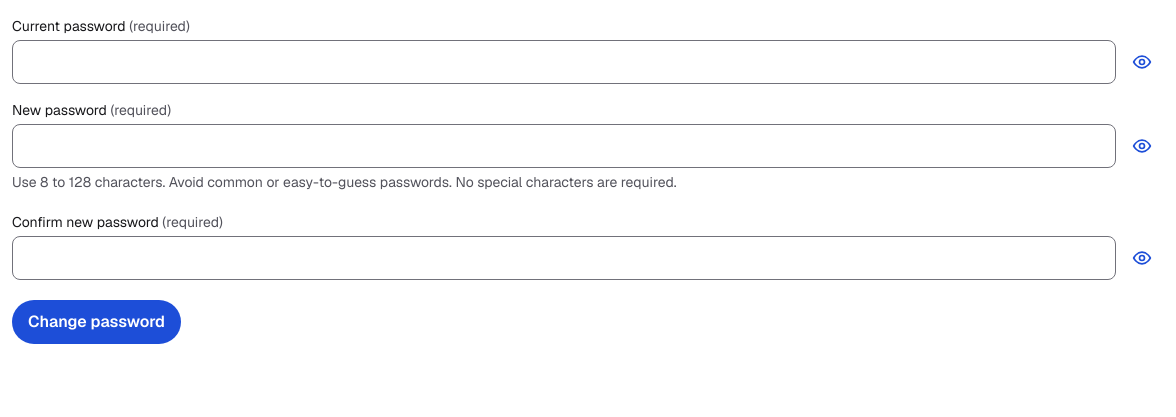
ChangePasswordForm interactions › posts exactly the three fields; success announces in role=status and clears every field
This screenshot has width=1176, height=417.
Type "old-password-1" into the password field labelled "Current password (required)". click: (564, 62)
box: [12,40,1116,84]
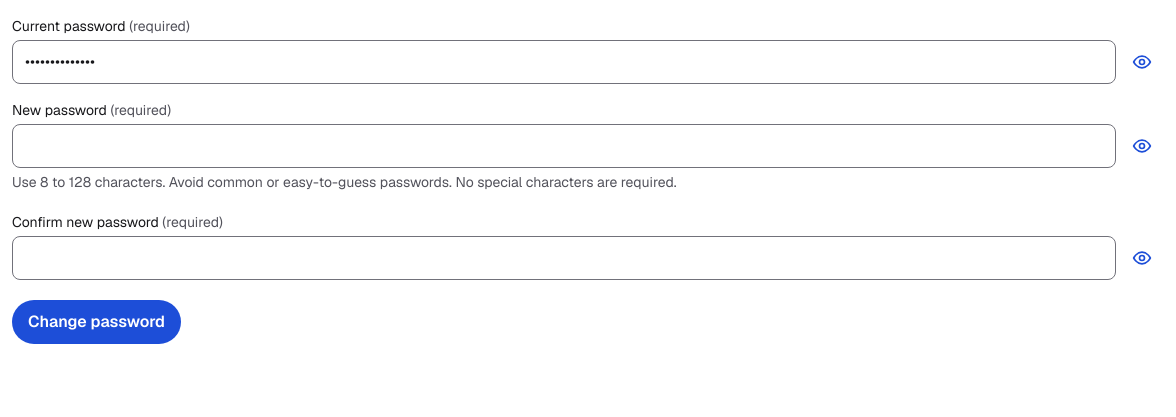
Type "new-password-22" into the password field labelled "New password (required)". click: (564, 146)
box: [12,124,1116,168]
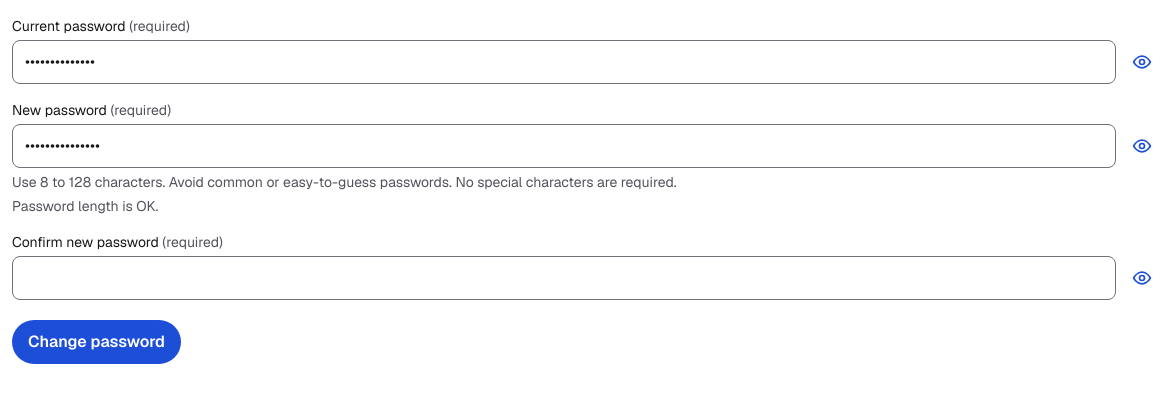
Type "new-password-22" into the password field labelled "Confirm new password (required)". click: (564, 278)
box: [12,256,1116,300]
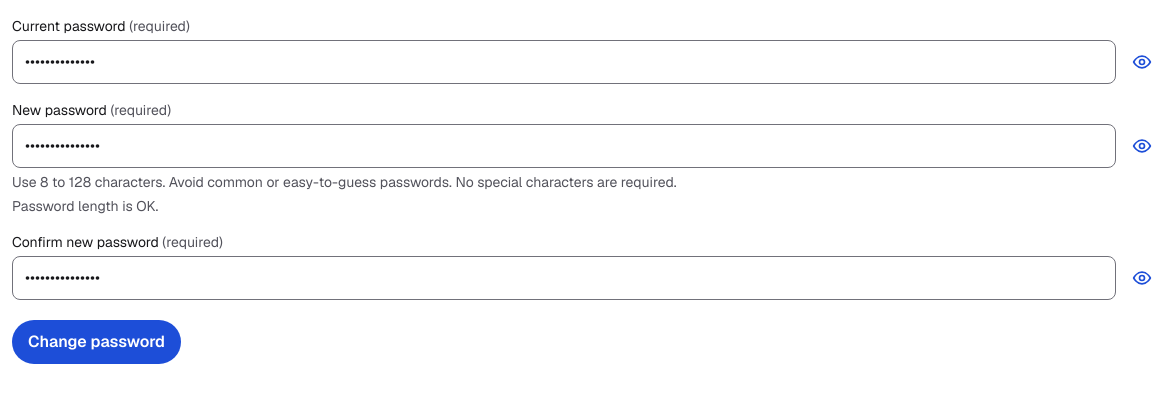
Submit the form
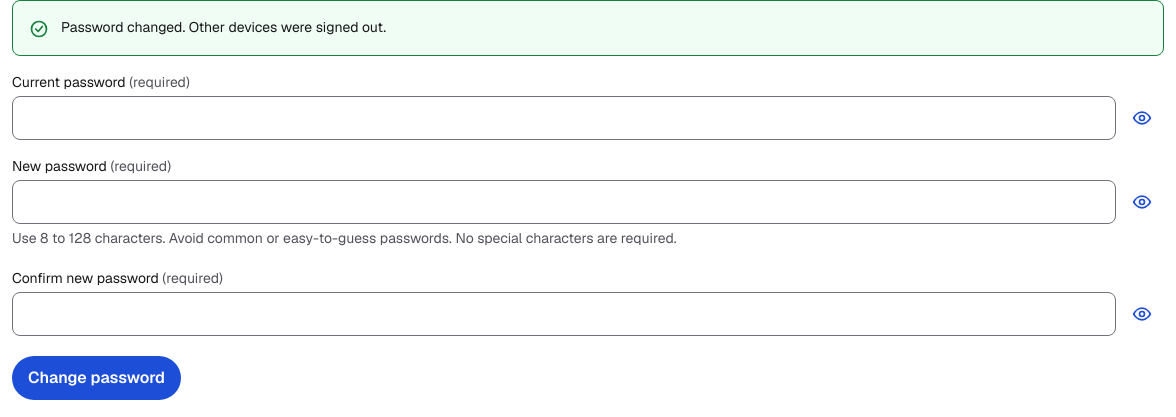
Now the element with test id "password-status" reads "Password changed. Other devices were signed out.", box [61,18,386,36]
Now the message "Password changed. Other devices were signed out." is shown, box [12,0,1164,56]
